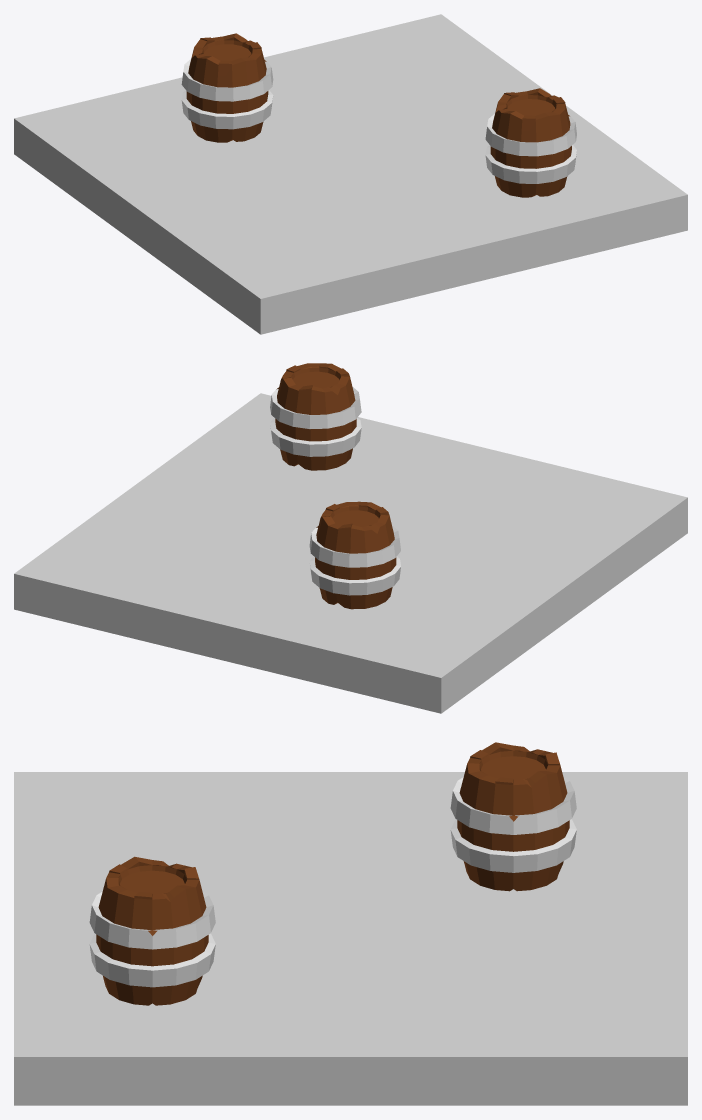
Rendered from barreltile.fbx.
The picture shows the model from 3 angles, top to bottom: view 1: azimuth 30°, elevation 25°; view 2: azimuth 150°, elevation 25°; view 3: azimuth 270°, elevation 25°; orthographic projection. The views are drawn at different scales.
Visible parts, largest first — view 1: Cube, Cylinder, Cylinder.001; view 2: Cube, Cylinder, Cylinder.001; view 3: Cube, Cylinder, Cylinder.001.
Boxes of the visible parts, x1,y1,x2,y2 form: Cube: (14, 14, 687, 334); Cylinder: (485, 88, 576, 197); Cylinder.001: (181, 33, 273, 142); Cube: (14, 393, 687, 713); Cylinder: (270, 363, 361, 470); Cylinder.001: (309, 501, 400, 609); Cube: (14, 772, 687, 1105); Cylinder: (89, 856, 215, 1005); Cylinder.001: (450, 742, 576, 891).
Size of the model in its own units: 500 by 132 by 500.
